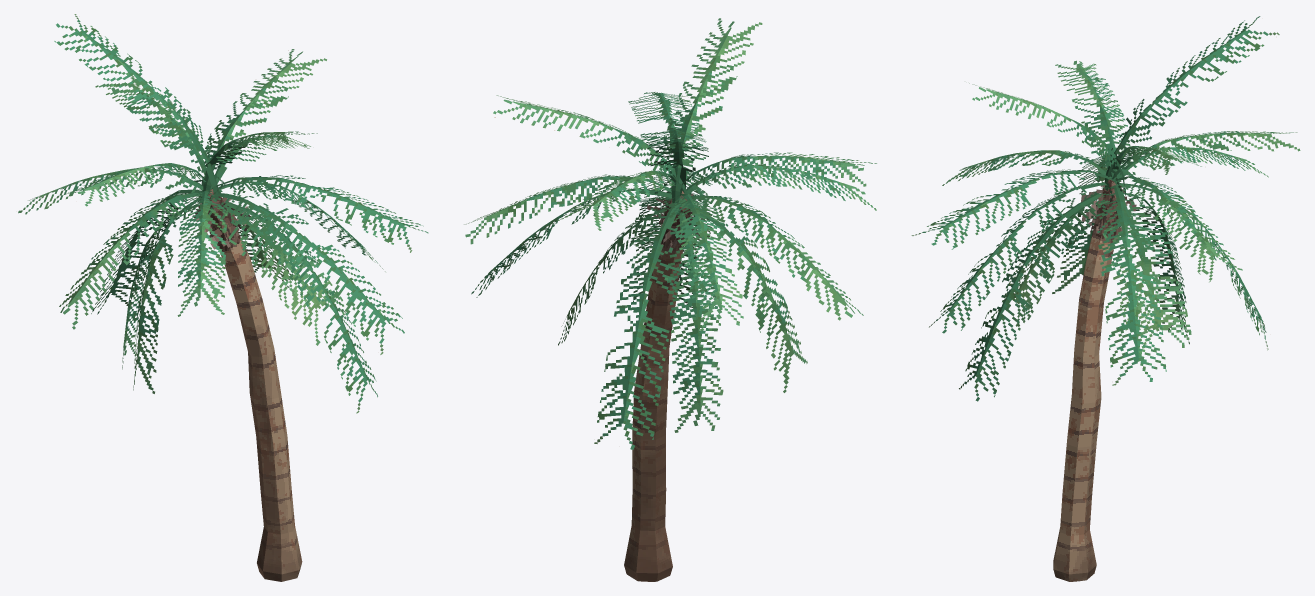
The model's file is PalmTree.gltf.
3 renders of one model, left to right at view 1: azimuth 30°, elevation 25°; view 2: azimuth 150°, elevation 25°; view 3: azimuth 270°, elevation 25°, orthographic. The views are drawn at different scales.
Visible parts, largest first — view 1: Leaf (×10), BigLeaf (×6), Trunk, BigSquatLeaf (×2); view 2: Leaf (×10), BigLeaf (×5), Trunk, BigSquatLeaf (×2); view 3: BigLeaf (×6), Leaf (×9), Trunk, BigSquatLeaf (×2).
Boxes of the visible parts, bbox=[...] form: Leaf (×10): bbox=[18, 49, 326, 393]; BigLeaf (×6): bbox=[54, 14, 428, 413]; Trunk: bbox=[208, 189, 302, 581]; BigSquatLeaf (×2): bbox=[208, 201, 344, 345]; Leaf (×10): bbox=[464, 18, 876, 432]; BigLeaf (×5): bbox=[471, 92, 708, 449]; Trunk: bbox=[624, 191, 690, 581]; BigSquatLeaf (×2): bbox=[558, 197, 715, 345]; BigLeaf (×6): bbox=[911, 16, 1279, 401]; Leaf (×9): bbox=[942, 60, 1300, 344]; Trunk: bbox=[1053, 179, 1121, 581]; BigSquatLeaf (×2): bbox=[991, 191, 1191, 361].
Bounding box in the file's own units: 10.44 × 14.98 × 10.5.
1 material, 1 textured.
